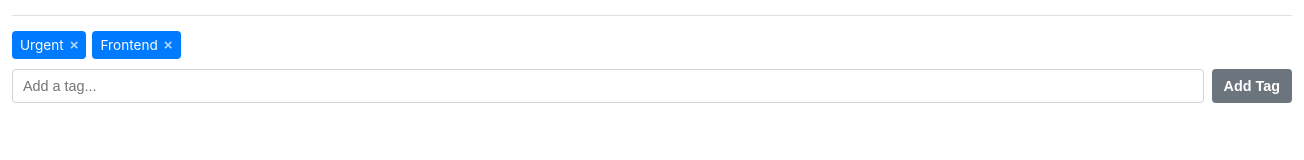
Test case: TagManager › shows error message if removing a tag fails
Click the button titled "Remove tag \"Urgent\"" next to "Urgent" at (74, 45), box [70,38,78,53]
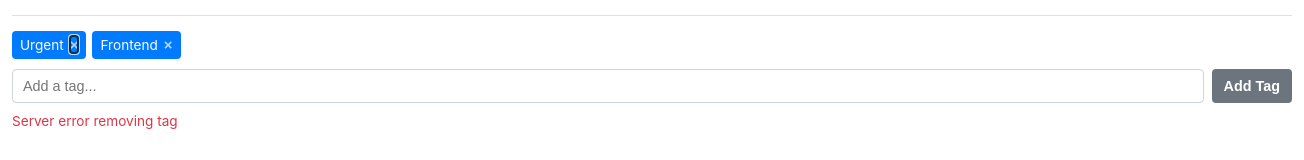
Expected: the text "Server error removing tag" is shown, [12,113,178,129]
